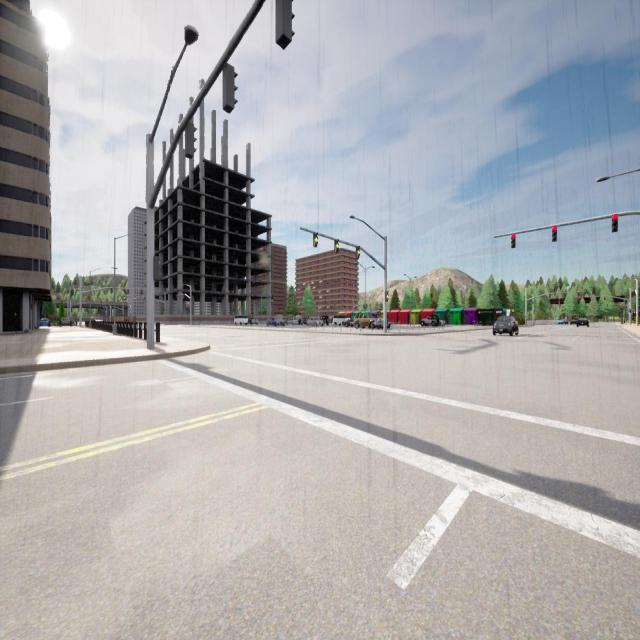Vehicle: (493, 316, 518, 335), (354, 314, 373, 329), (421, 315, 439, 326), (371, 318, 390, 328), (333, 316, 348, 325), (234, 316, 248, 325), (307, 317, 321, 326), (266, 320, 285, 326), (293, 315, 304, 325), (577, 318, 589, 327), (60, 317, 72, 326), (39, 318, 50, 326), (321, 316, 328, 325), (558, 319, 568, 325), (346, 320, 353, 327), (252, 319, 258, 325), (570, 318, 576, 324)
traffic_light: (275, 0, 295, 50), (222, 64, 238, 114), (185, 125, 197, 160), (612, 215, 618, 232), (313, 232, 318, 246), (552, 226, 556, 242), (511, 234, 515, 248), (334, 240, 338, 253), (356, 246, 360, 258), (386, 292, 388, 302), (604, 296, 606, 300), (164, 310, 166, 313), (590, 296, 592, 299), (134, 296, 136, 299), (124, 296, 125, 300), (578, 296, 580, 298), (630, 310, 631, 312)
